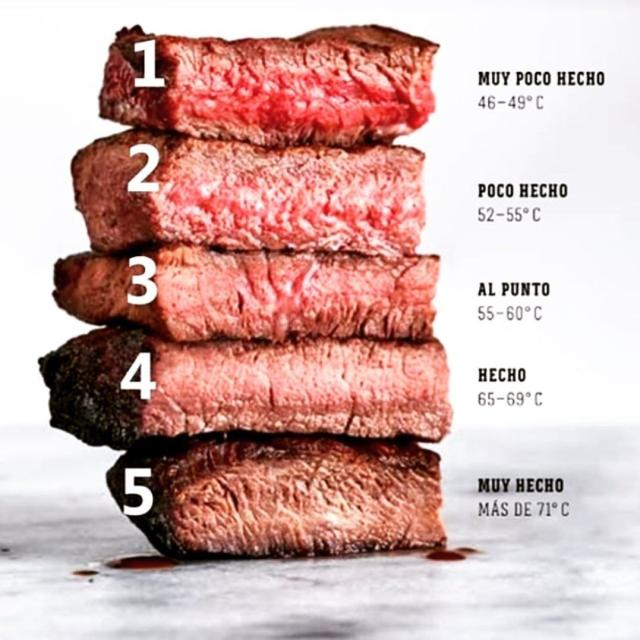carne de res: (25, 327, 482, 442), (60, 135, 462, 262), (74, 15, 452, 146), (94, 450, 472, 575), (41, 245, 474, 342)
